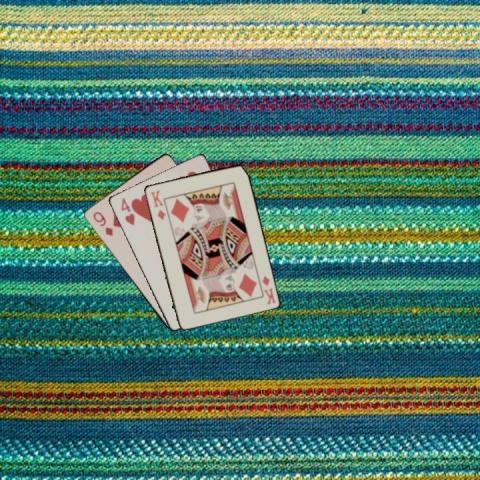4h: (117, 194, 136, 226)
9d: (89, 209, 114, 237)
Kd: (148, 188, 167, 222), (258, 273, 276, 306)
